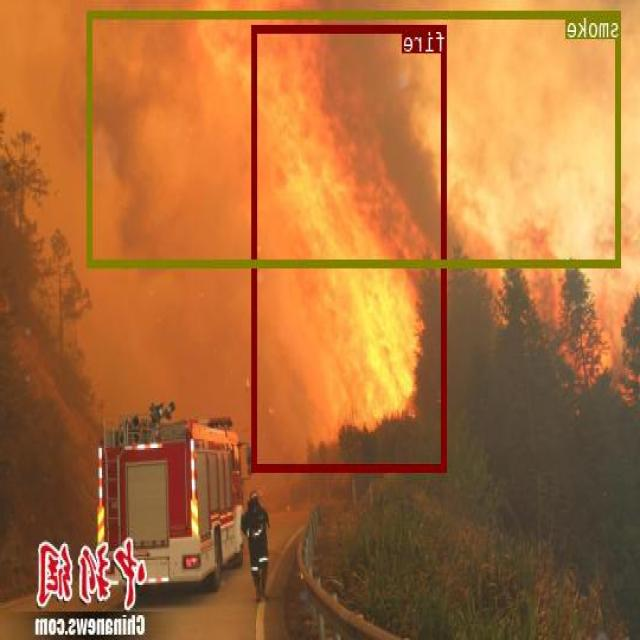fire: (253, 24, 448, 469)
smoke: (88, 9, 622, 266)
